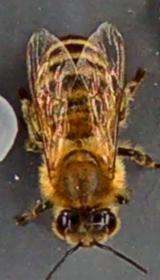varroa_mite: (25, 77, 56, 118)
